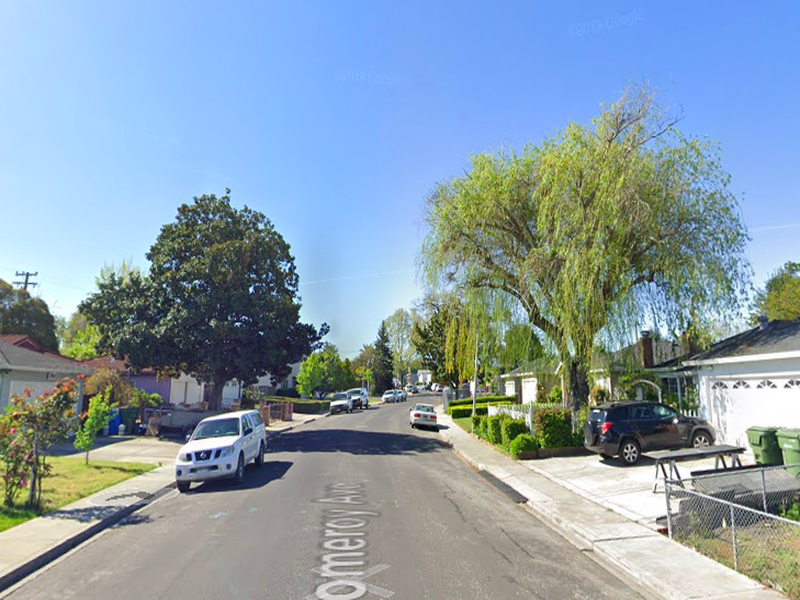tree: (413, 75, 756, 441), (79, 186, 330, 432)
